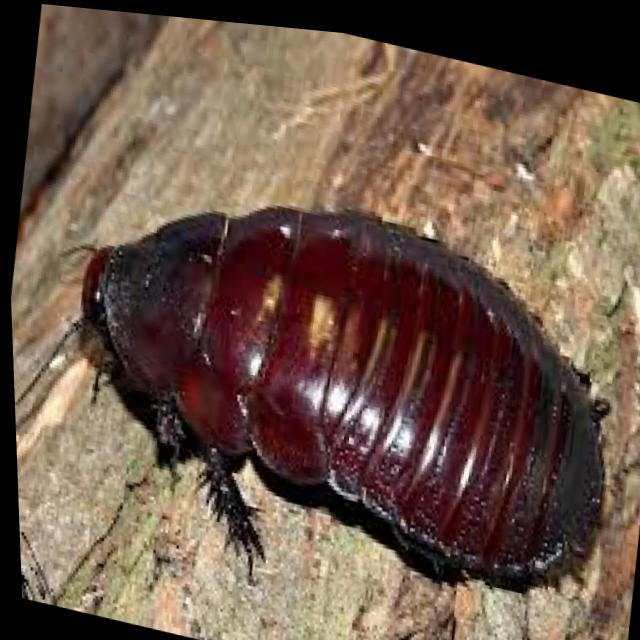Cockroach: (3, 109, 640, 640)
